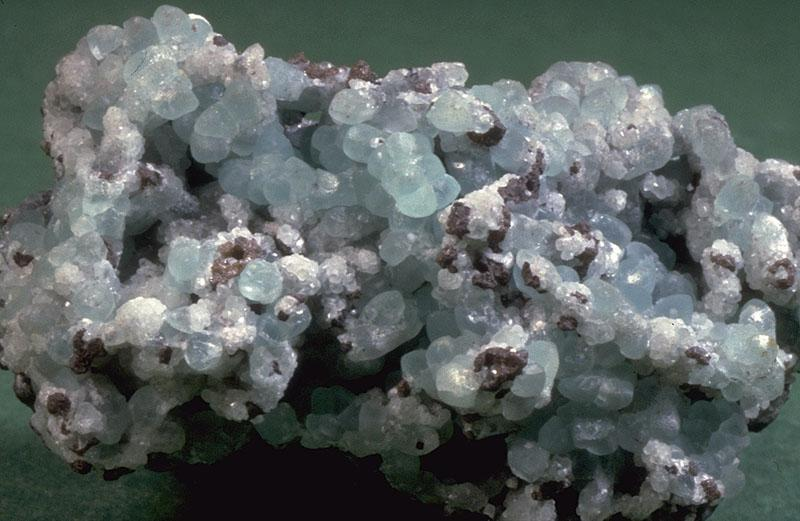prehnite: (0, 5, 800, 519)
